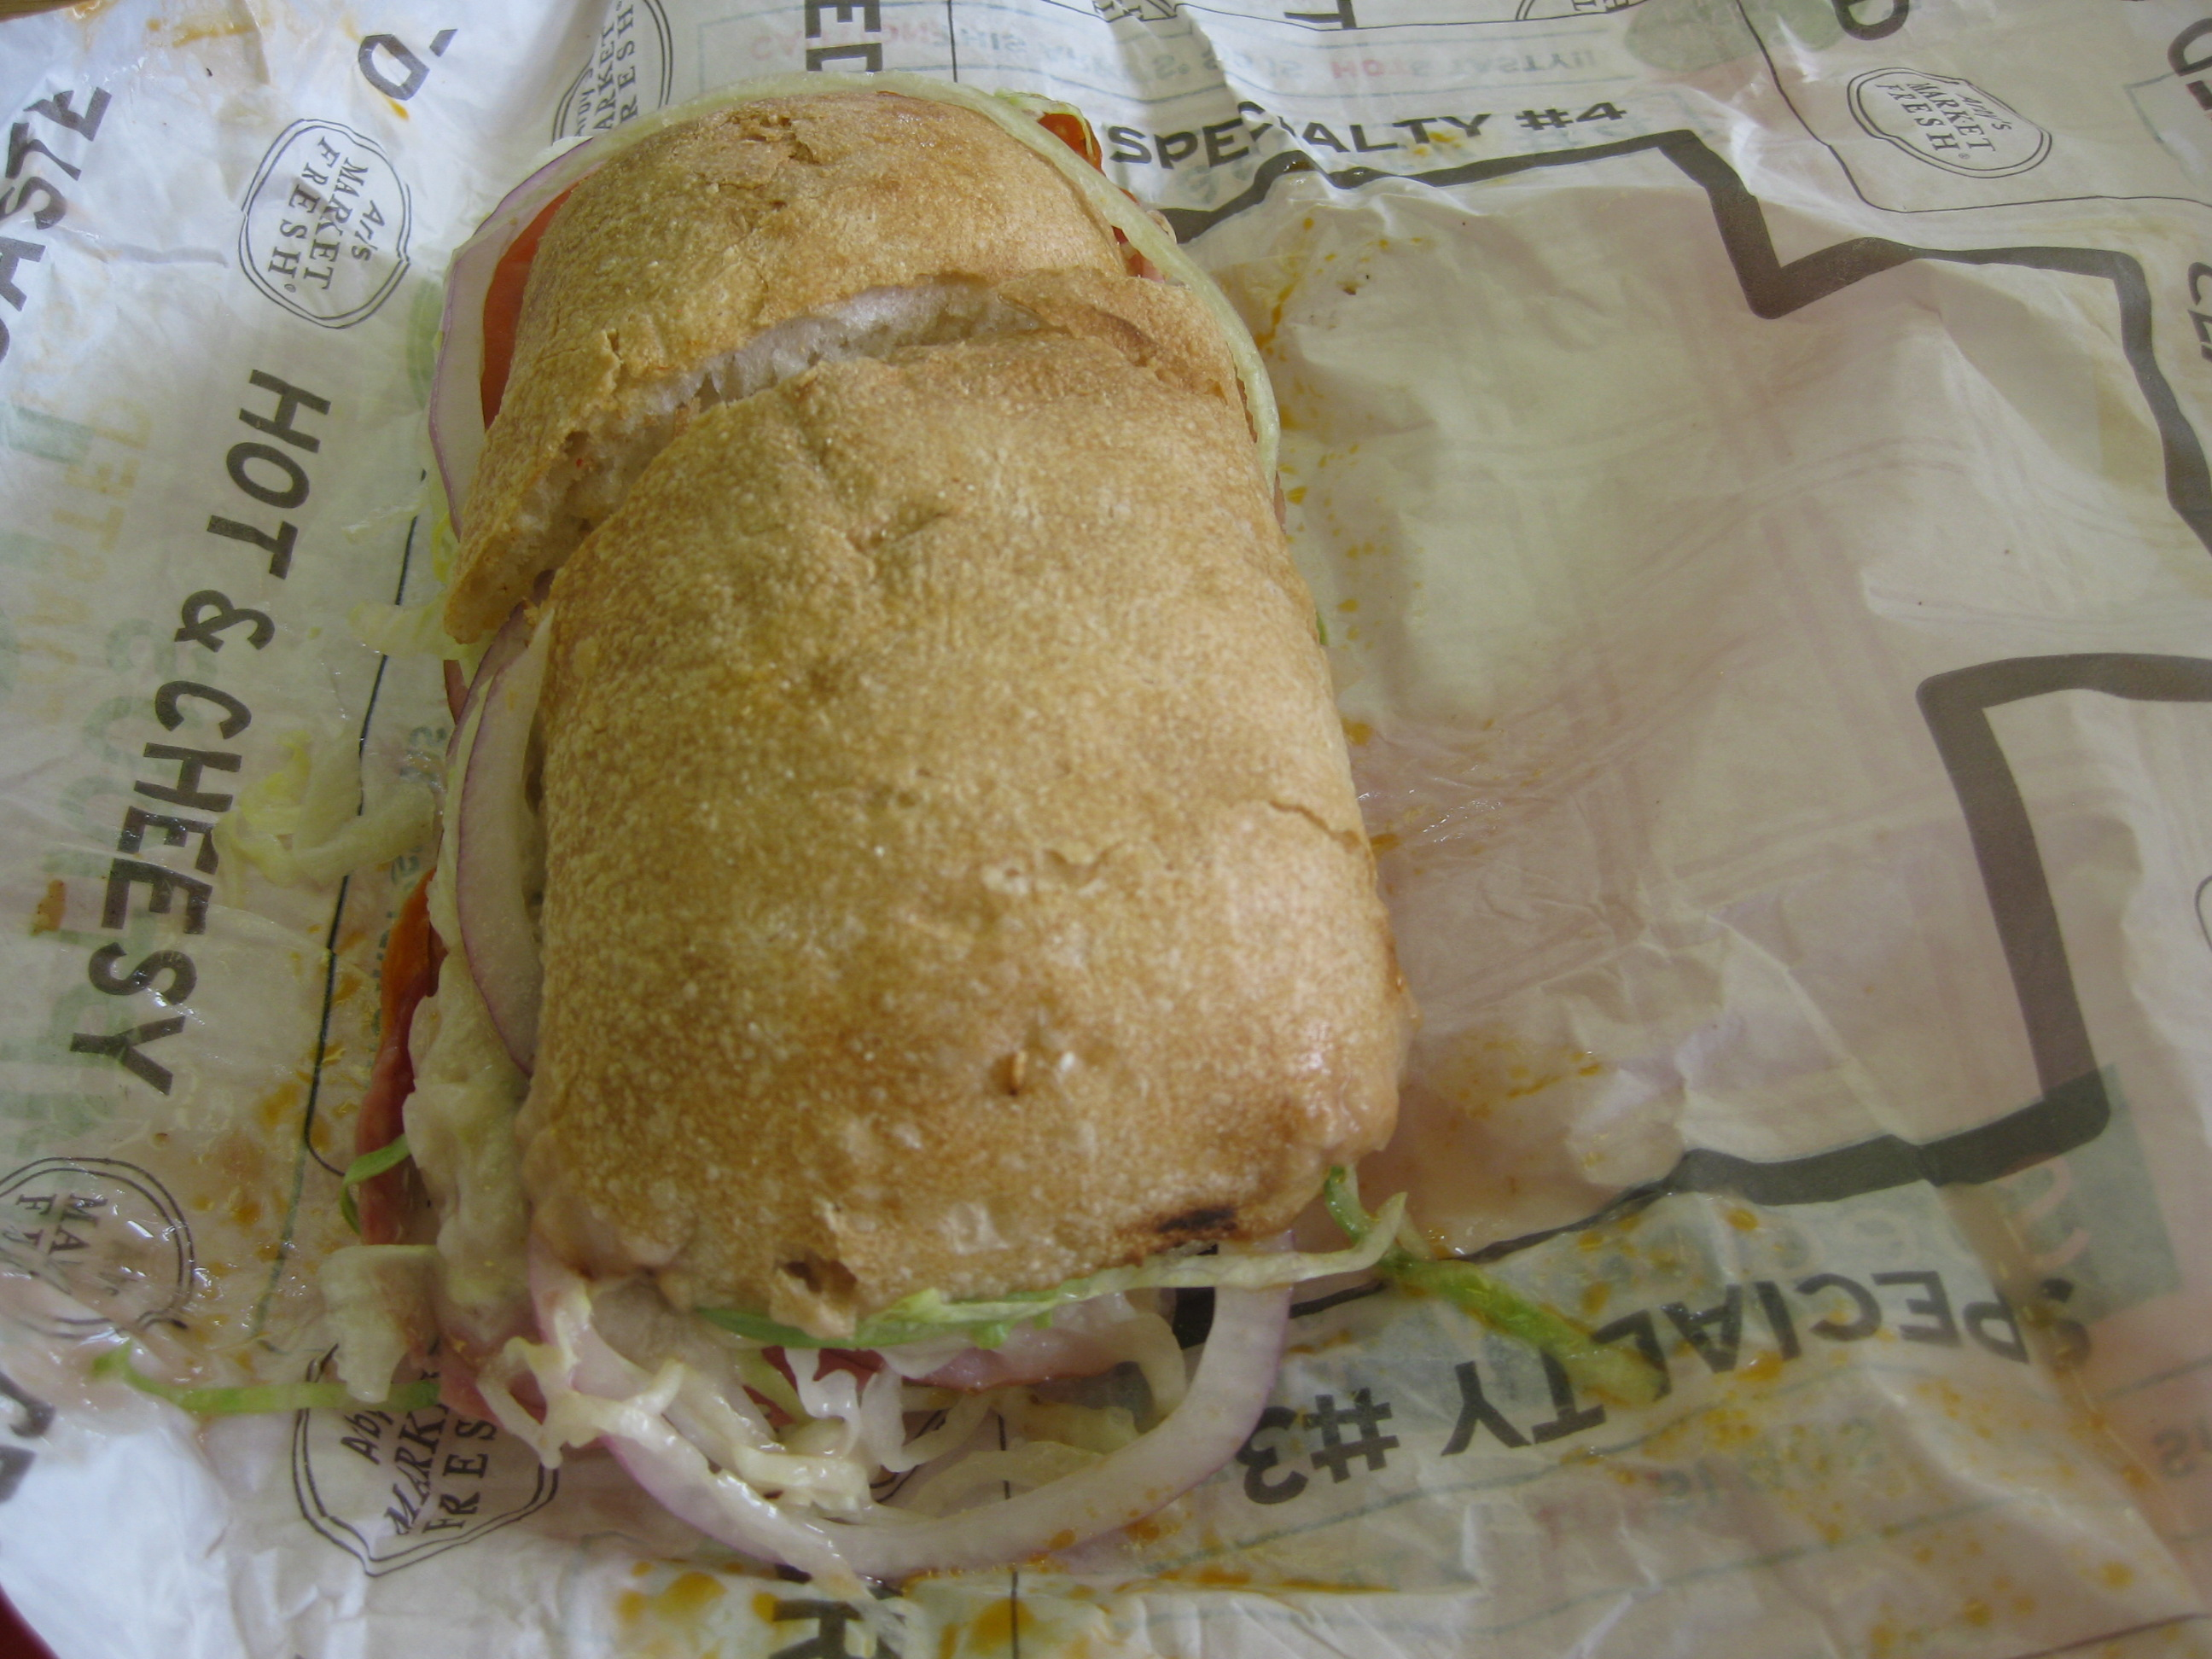sub: (400, 72, 1431, 1565)
